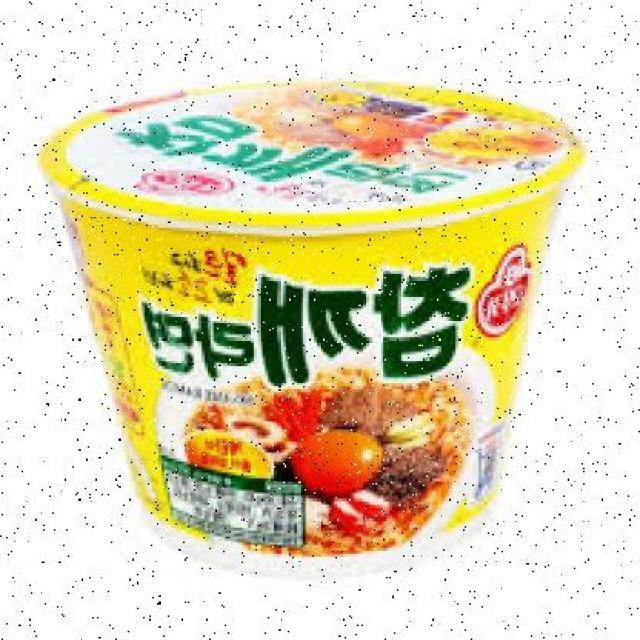Miscellaneous: (41, 77, 584, 568)
